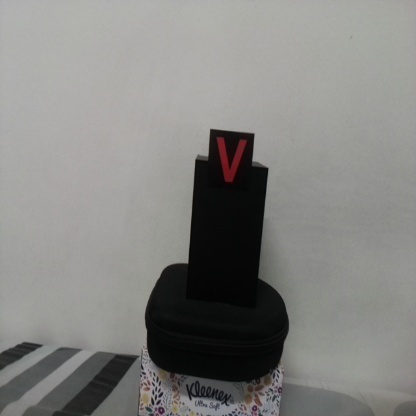id_11: (210, 131, 253, 197)
